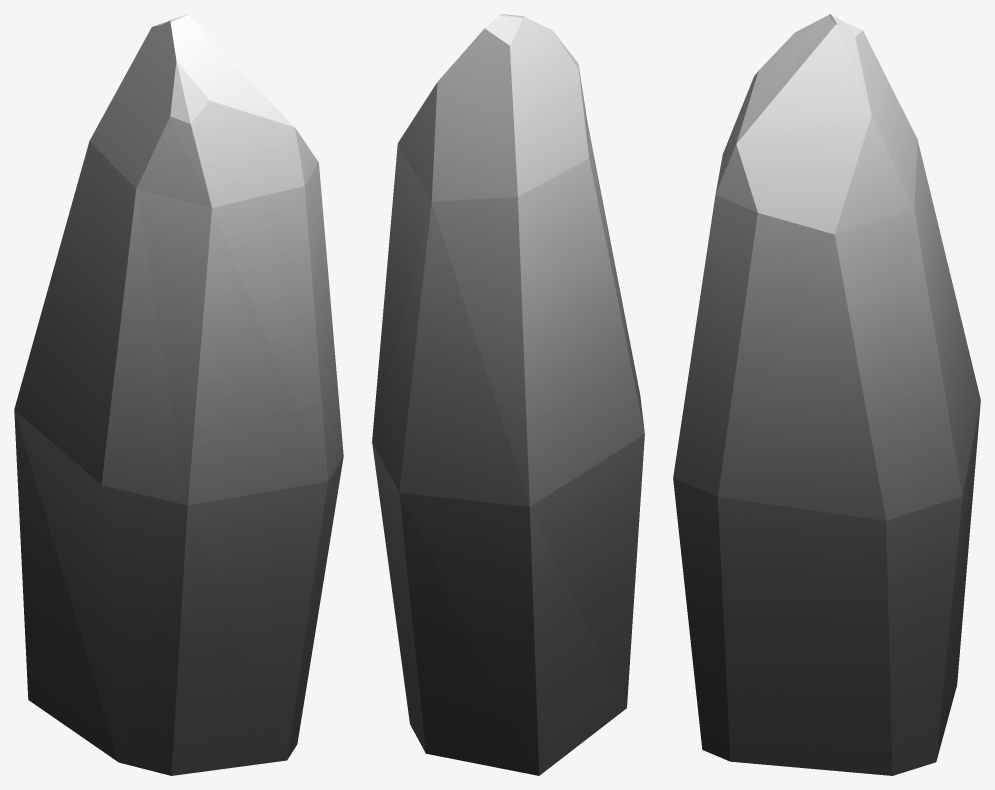
Rendered from CrystalShard_D.fbx.
The picture shows the model from 3 angles, left to right: view 1: azimuth 30°, elevation 25°; view 2: azimuth 150°, elevation 25°; view 3: azimuth 270°, elevation 25°; orthographic projection. The views are drawn at different scales.
Parts seen in each view (by area): view 1: CrystalShard_D; view 2: CrystalShard_D; view 3: CrystalShard_D.
Boxes of the visible parts, x1=… form: CrystalShard_D: x1=14, y1=14, x2=343, y2=775; CrystalShard_D: x1=372, y1=14, x2=644, y2=775; CrystalShard_D: x1=673, y1=14, x2=980, y2=775.
Size of the model in its own units: 59.71 by 185 by 71.27.
Materials: 1 (1 with a texture image).
